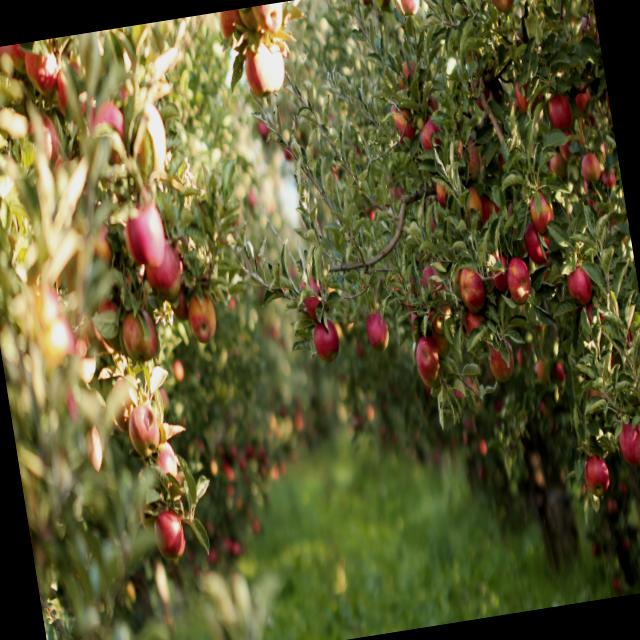Fresh_Apple: (112, 167, 182, 290)
